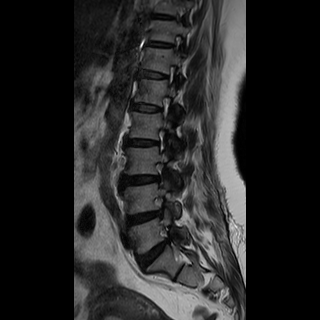LFS0: (151, 91, 177, 124)
LFS3: (146, 157, 174, 191), (149, 194, 177, 228)
